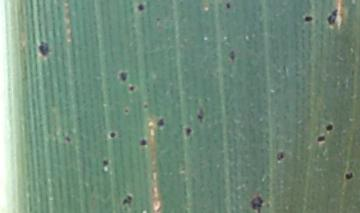tarspot: (36, 39, 51, 57), (326, 8, 338, 26), (251, 194, 262, 213), (196, 106, 205, 123), (122, 194, 132, 205), (119, 70, 128, 82), (343, 169, 353, 179), (276, 150, 285, 161), (229, 49, 236, 62), (303, 14, 313, 23), (325, 121, 333, 132), (137, 3, 146, 12), (63, 134, 72, 143), (122, 105, 131, 114), (184, 126, 193, 135), (128, 83, 136, 93), (101, 157, 109, 167), (138, 137, 148, 145), (156, 117, 164, 127), (315, 135, 326, 142), (224, 1, 232, 10), (108, 130, 116, 138), (155, 15, 161, 22), (142, 103, 149, 108)
